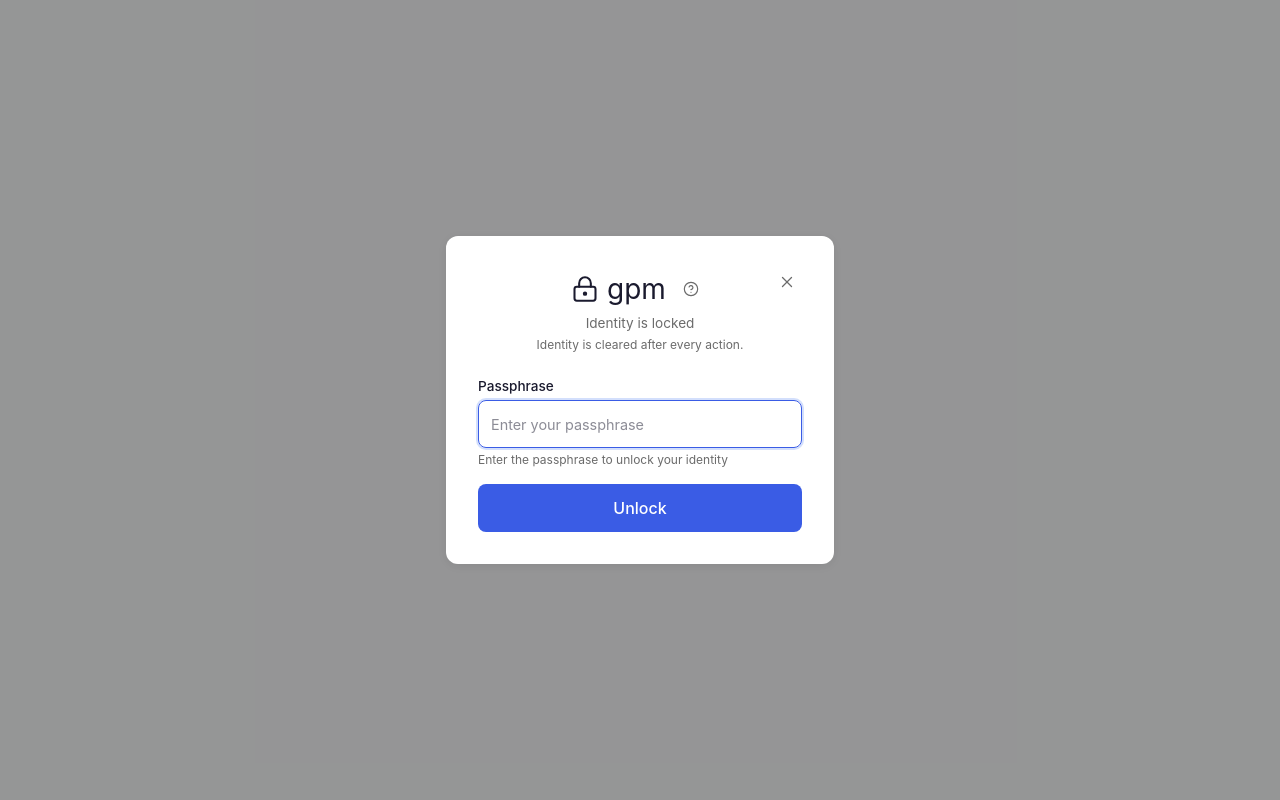
Test case: UnlockModal › the ? button toggles the passphrase explainer
Click the button named "What is this passphrase?": (691, 289) [674,271,709,307]
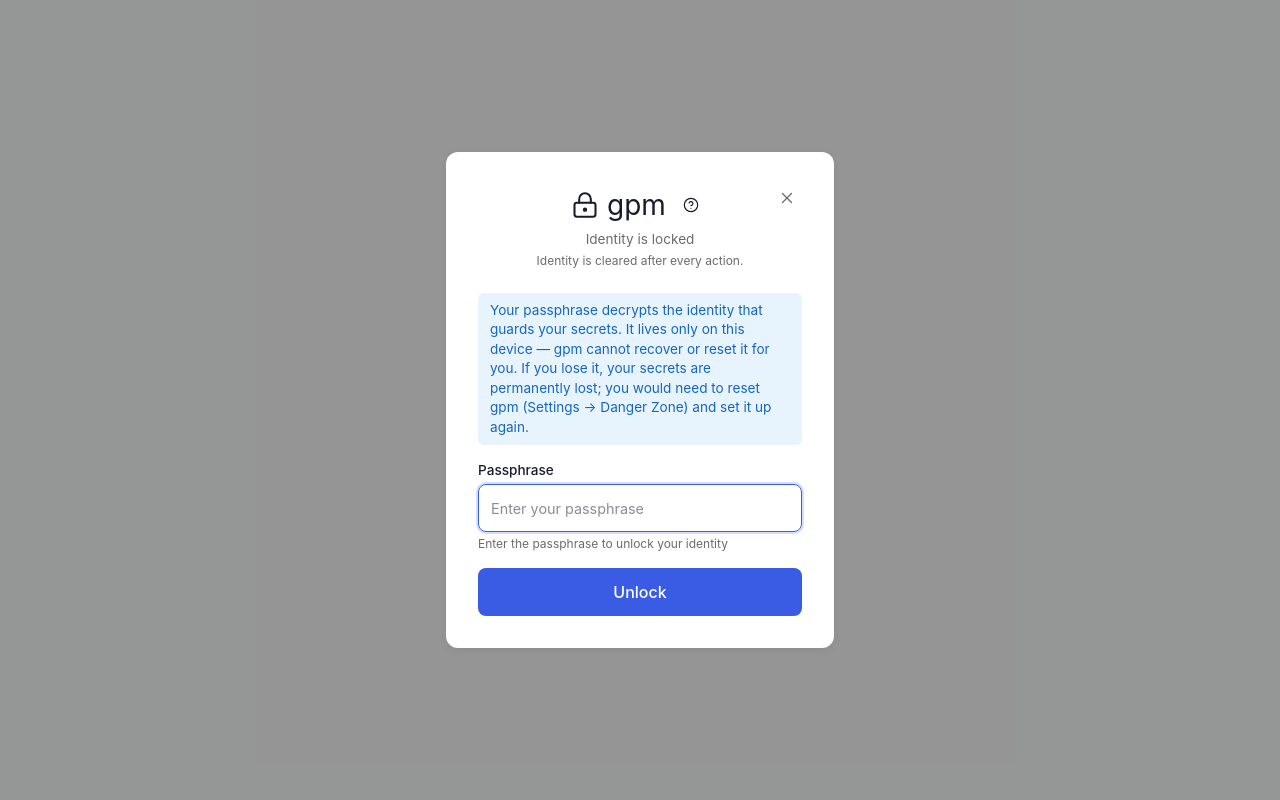
Expected: the text "cannot recover or reset it" is shown, [490,302,771,434]
Click the button named "What is this passphrase?": (691, 205) [674,187,709,223]
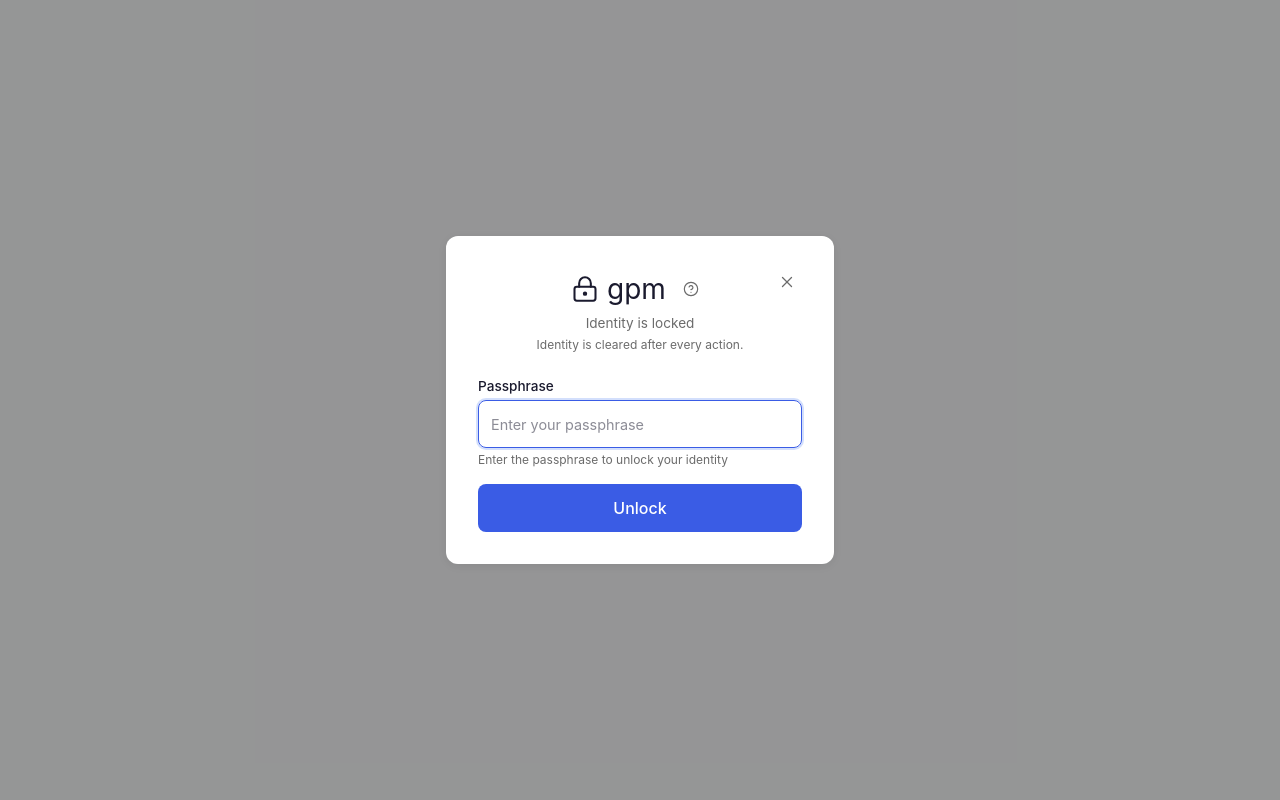
Expected: the text "cannot recover or reset it" is gone
